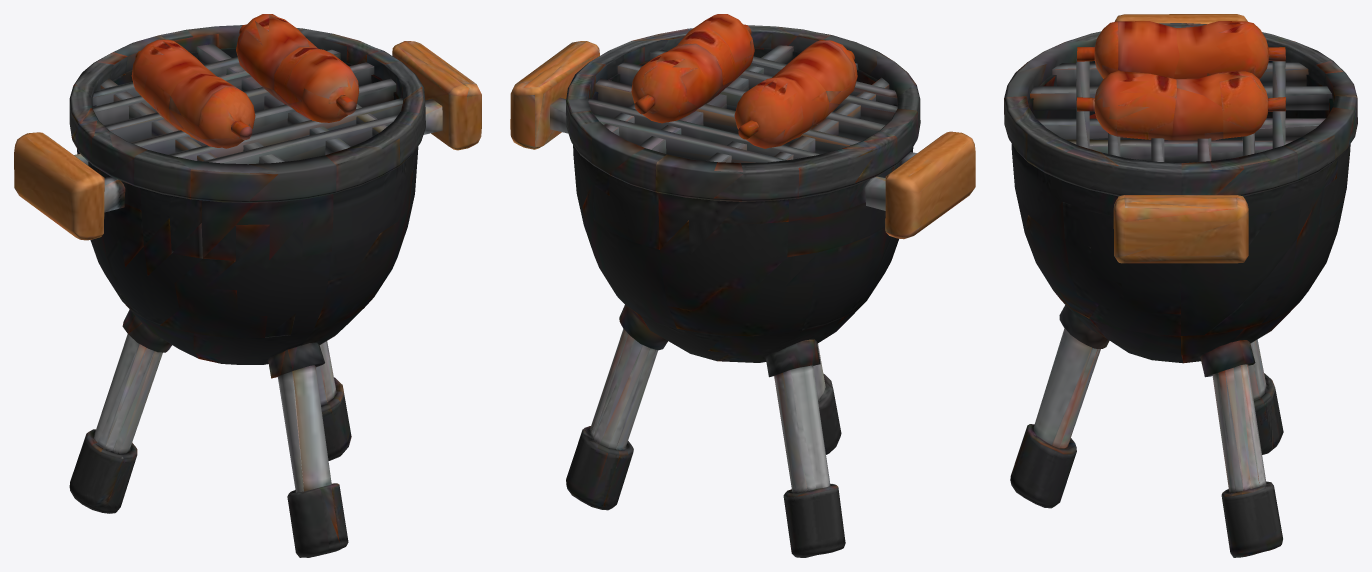
File: grill.glb
3 views of the same model, side by side, from view 1: azimuth 30°, elevation 25°; view 2: azimuth 150°, elevation 25°; view 3: azimuth 270°, elevation 25° (orthographic).
Bounding box in the file's own units: 0.9365 × 0.9972 × 0.7021.
1 material, 1 textured.
